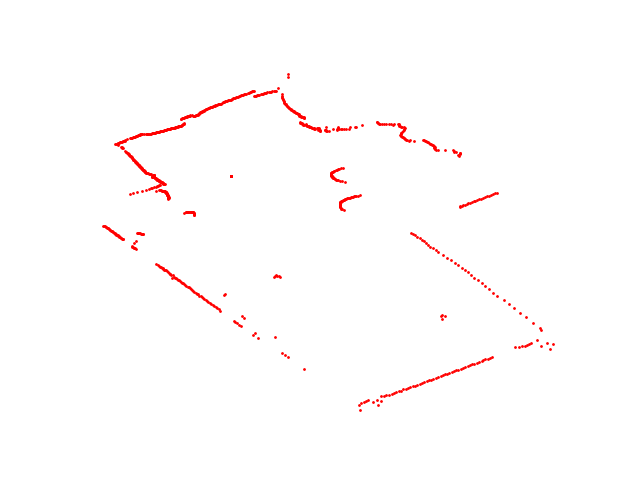person: (327, 165, 364, 213)
